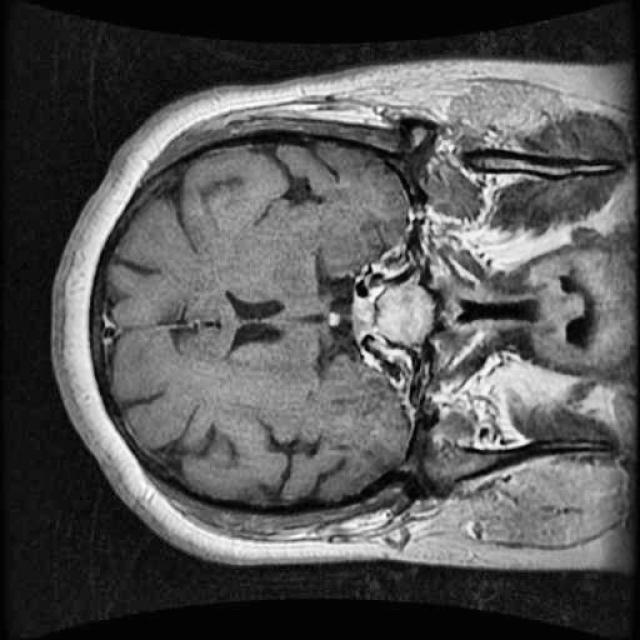Tumor: (350, 295, 376, 325)
